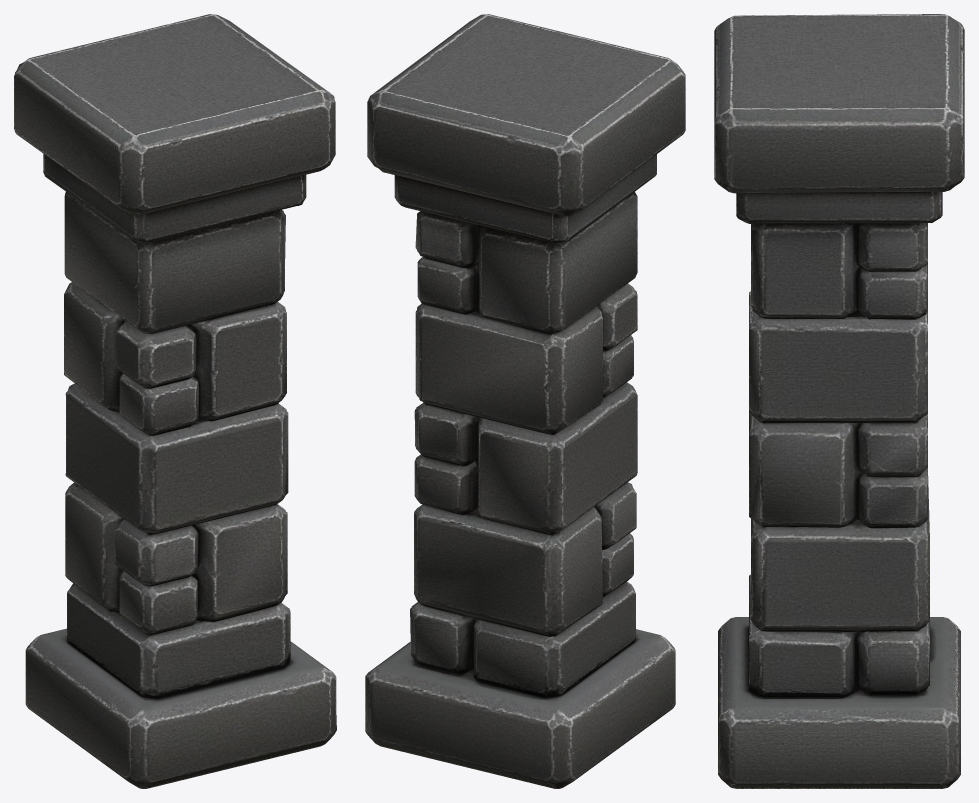
Rendered from CornerPillar.fbx.
The picture shows the model from 3 angles, left to right: view 1: azimuth 30°, elevation 25°; view 2: azimuth 150°, elevation 25°; view 3: azimuth 270°, elevation 25°; orthographic projection. The views are drawn at different scales.
Visible parts, largest first — view 1: Pillar_Corner_01; view 2: Pillar_Corner_01; view 3: Pillar_Corner_01.
Part boxes in pixels (left/top/right/bottom): Pillar_Corner_01: left=14, top=14, right=336, bottom=788; Pillar_Corner_01: left=365, top=14, right=685, bottom=788; Pillar_Corner_01: left=714, top=14, right=964, bottom=788.
Bounding box in the file's own units: 104 × 298 × 99.82.
1 material, 1 textured.
